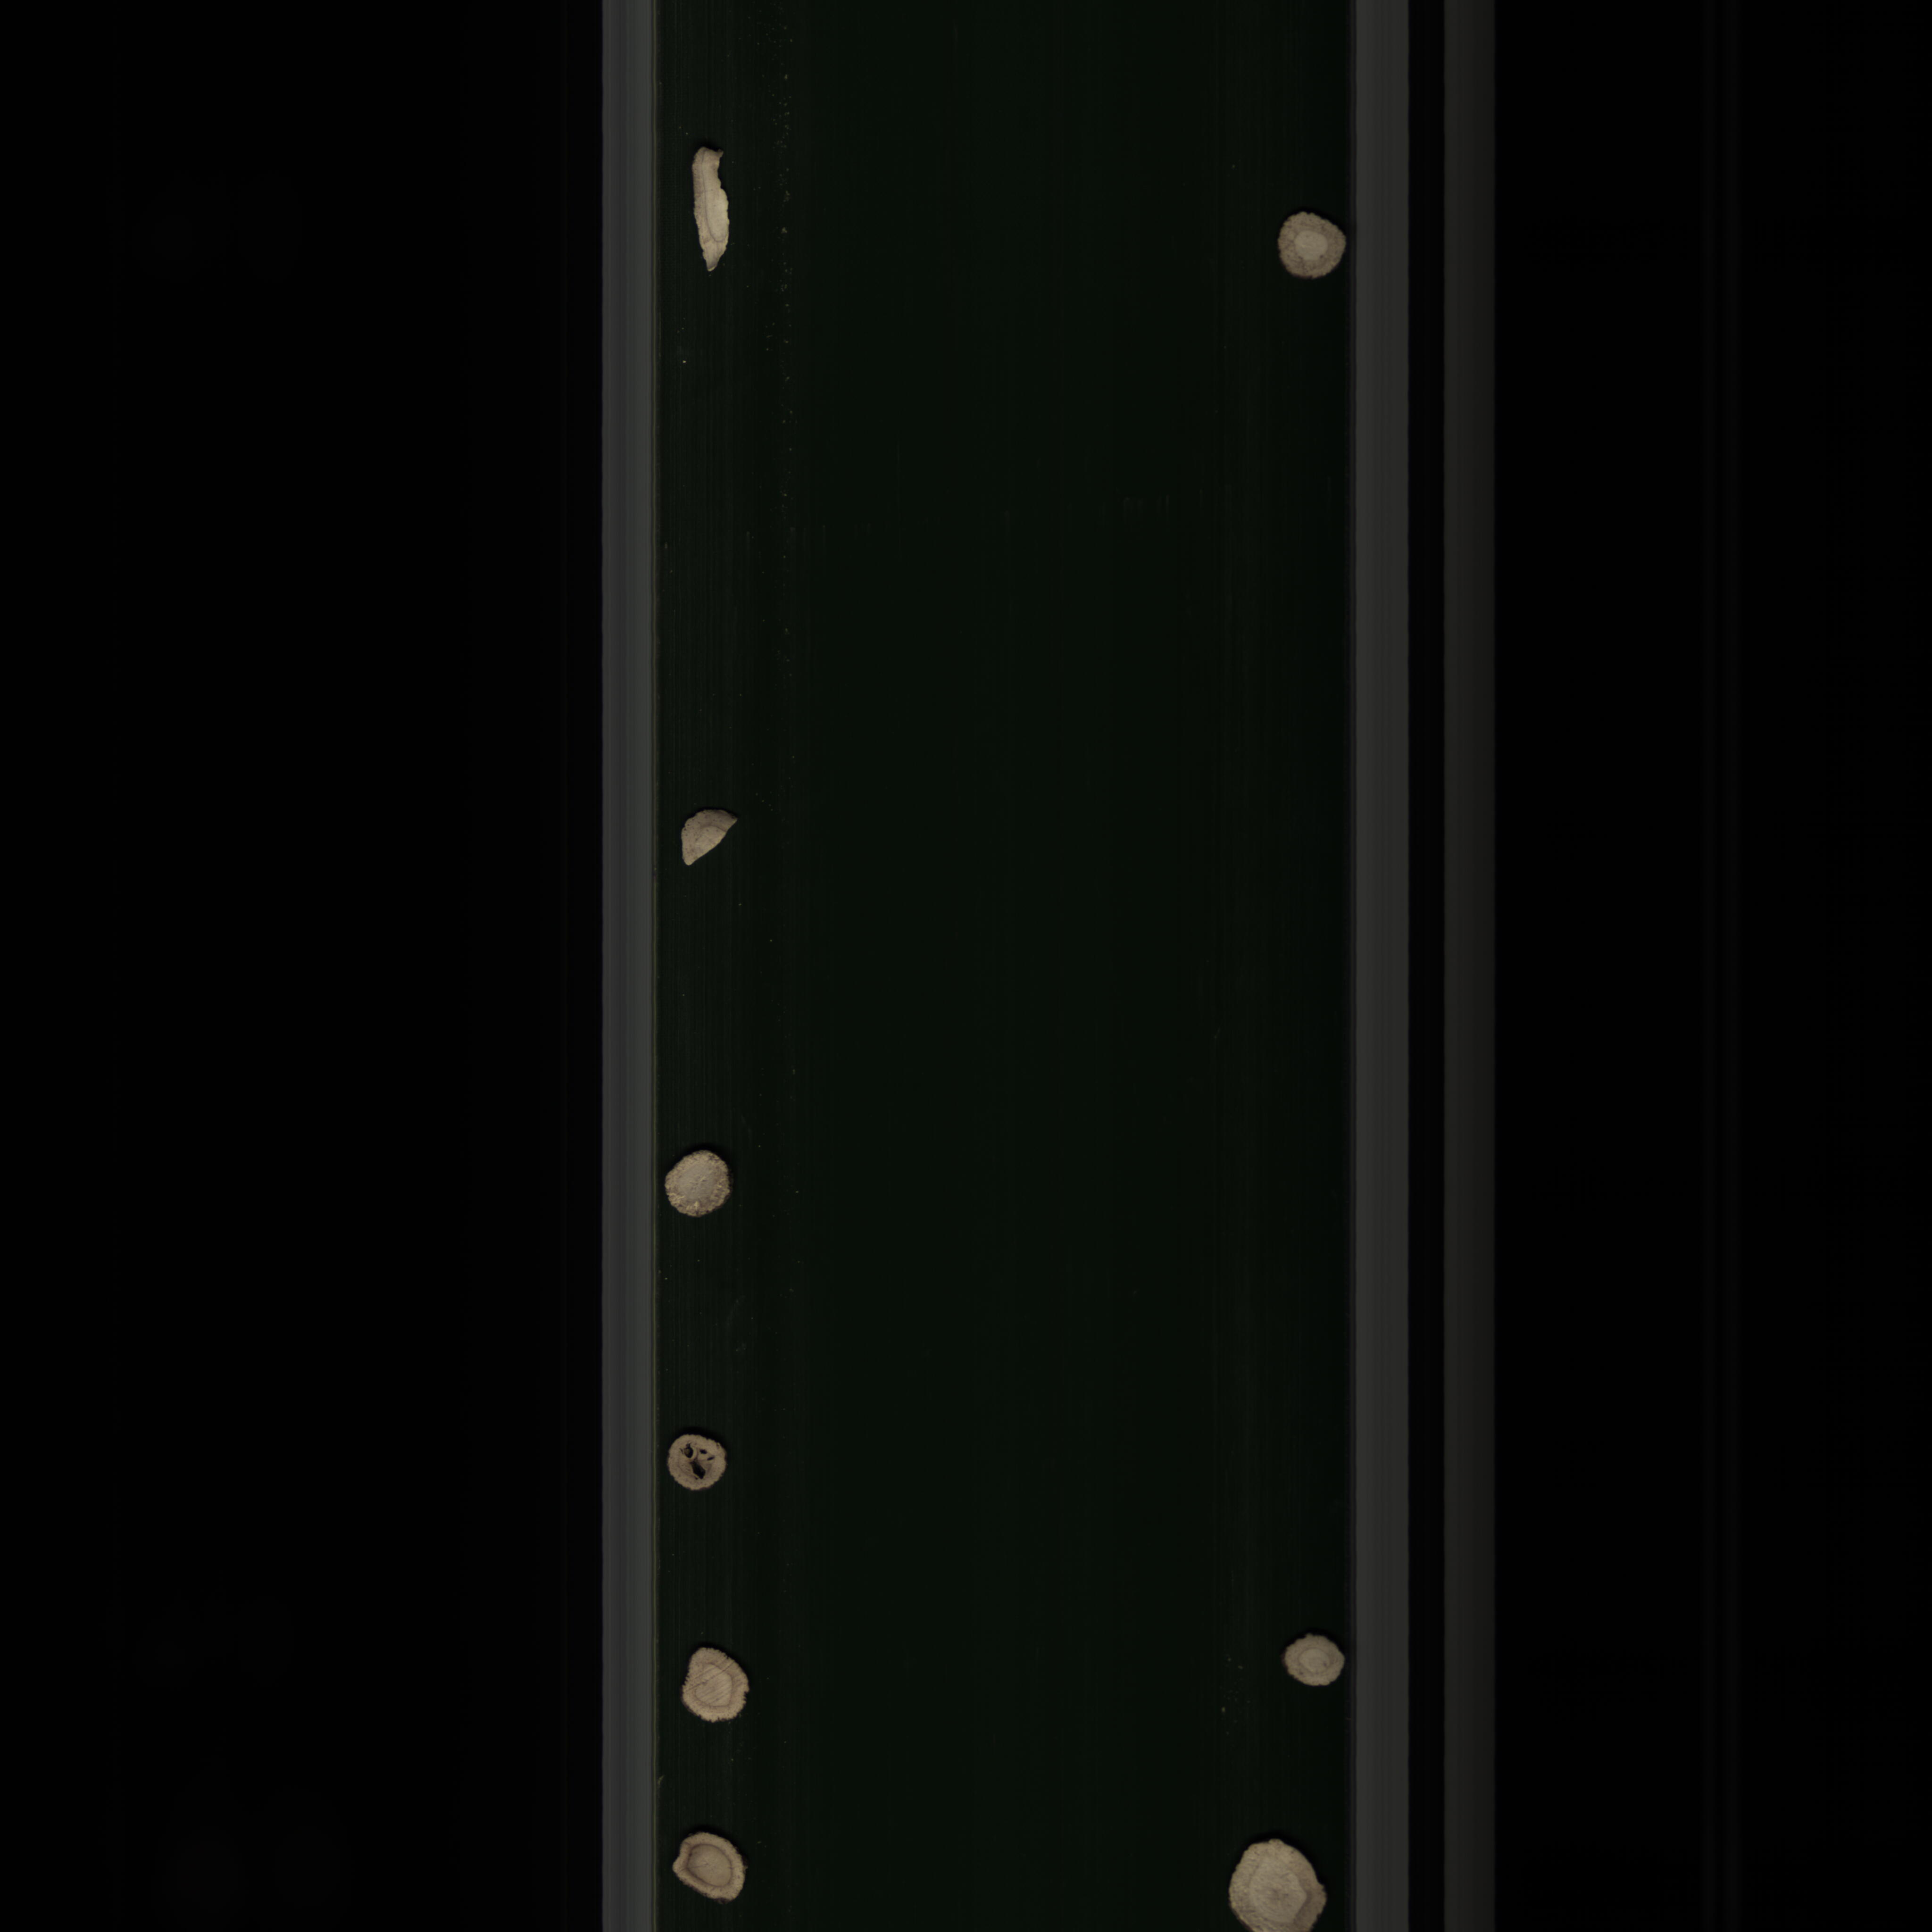bark: (683, 140, 755, 280)
debris: (678, 801, 750, 876)
hole: (658, 1426, 740, 1497)
